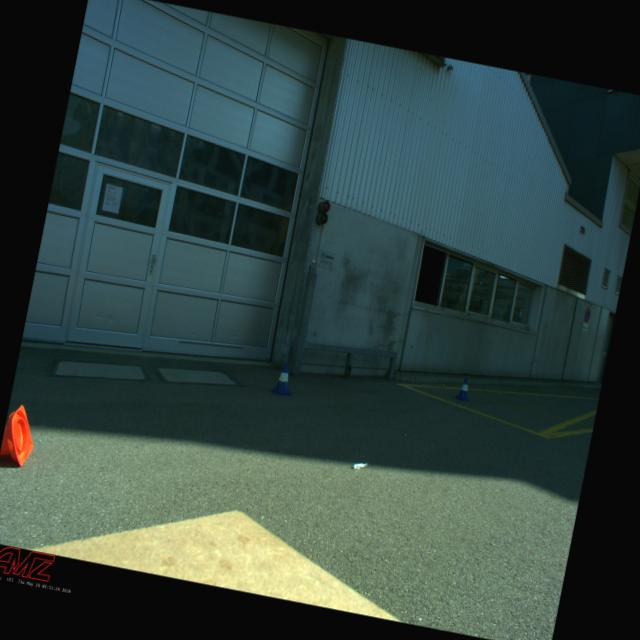blue_cone: (272, 361, 296, 397), (455, 377, 474, 402)
